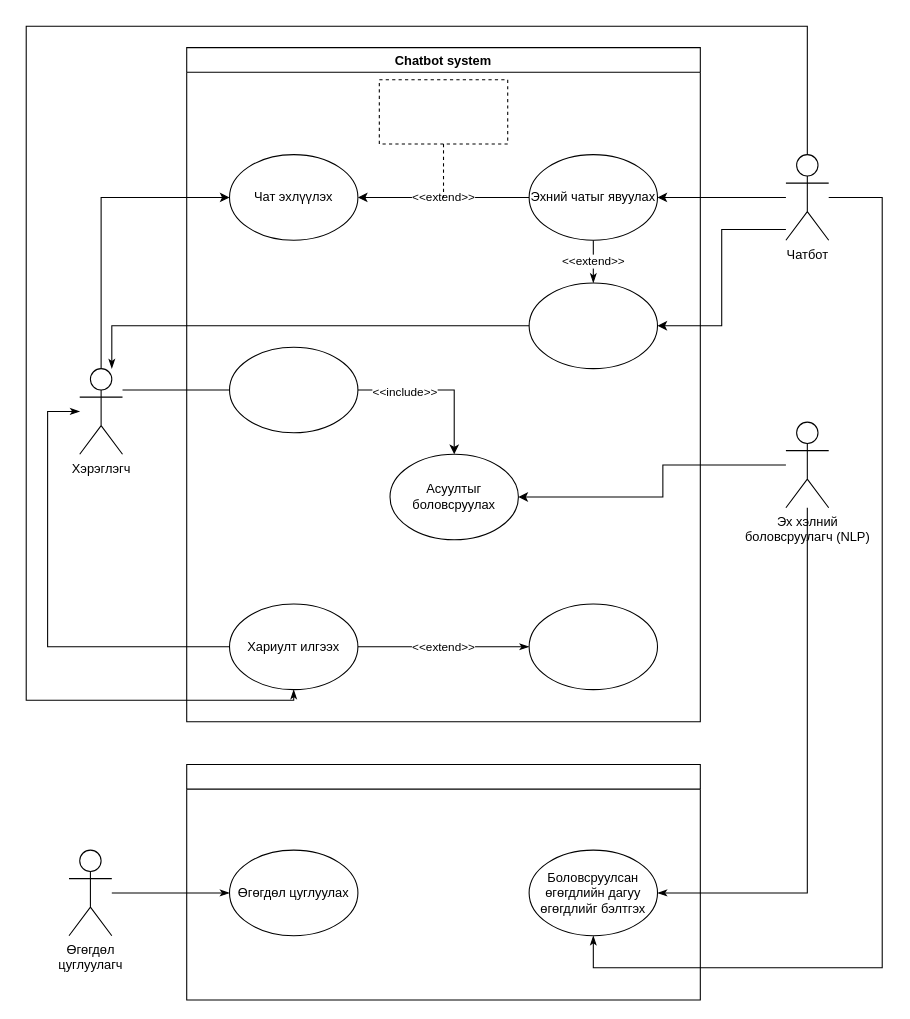
Some shapes in this 910 by 1019 pixel diagram are drawn without their labels. Each missing label, with the box of its shape:
Data Scraping environment: (186, 763, 700, 1000)
Асуулт асуух: (228, 346, 358, 433)
Асуултуудын жагсаалтыг харуулах: (528, 282, 658, 369)
Сонголт бүхий дэлгэрэнгүй мэдээллийг дүрслэх: (528, 603, 658, 690)
Өмнө нь хэрэглэгчтэй чатлаж байгаагүй: (378, 79, 508, 144)
